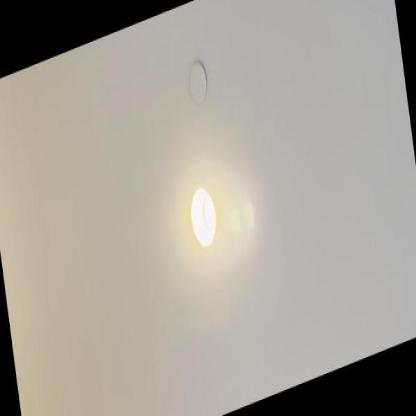light_on: (176, 159, 226, 274)
